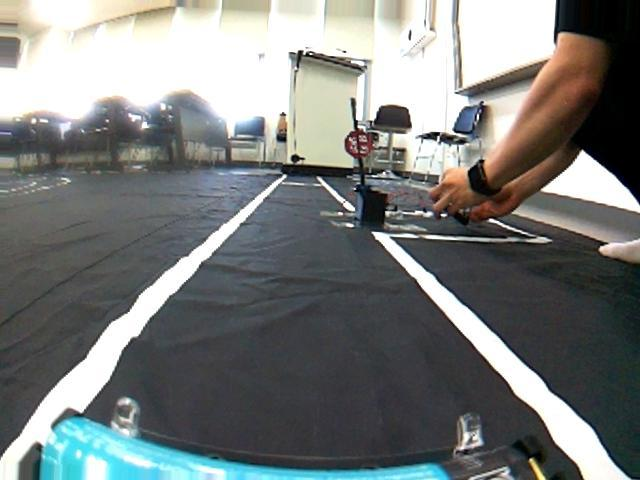sign_stop: (340, 121, 380, 162)
straight: (6, 245, 598, 471)
